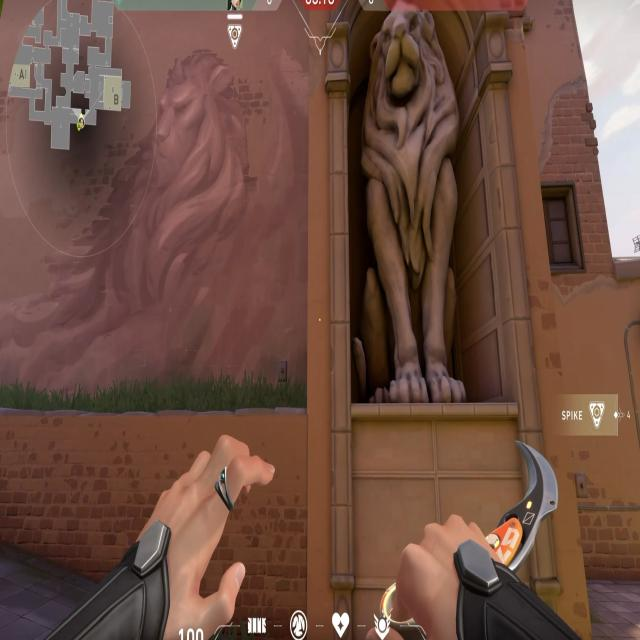Lion_Corner: (321, 1, 488, 443)
